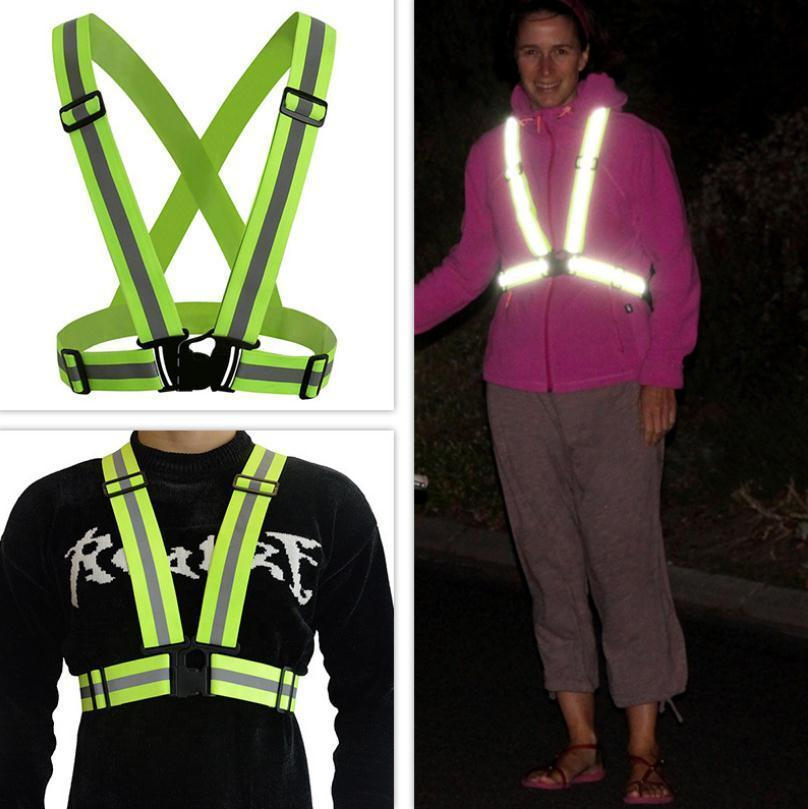Vest: (57, 444, 313, 718), (465, 101, 669, 316)
